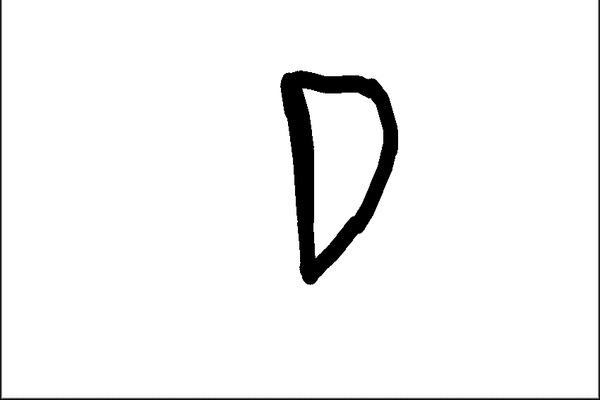D: (277, 62, 405, 288)
